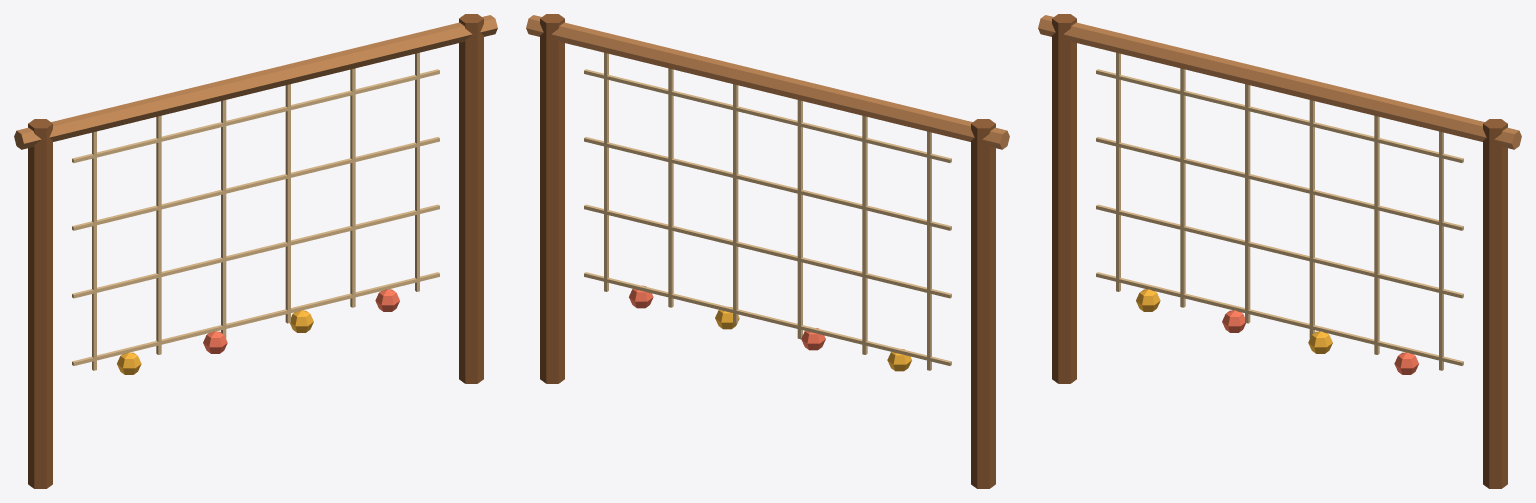
File: prop_net_rack.glb
The picture shows the model from 3 angles, left to right: view 1: azimuth 30°, elevation 25°; view 2: azimuth 150°, elevation 25°; view 3: azimuth 330°, elevation 25°; orthographic projection.
Visible parts, largest first — view 1: prop_net_rack; view 2: prop_net_rack; view 3: prop_net_rack.
Part boxes in pixels (x1,y1,x2,y2): prop_net_rack: [14, 14, 497, 488]; prop_net_rack: [526, 14, 1009, 488]; prop_net_rack: [1038, 14, 1521, 488].
Bounding box in the file's own units: 2.2 × 1.6 × 0.12.
